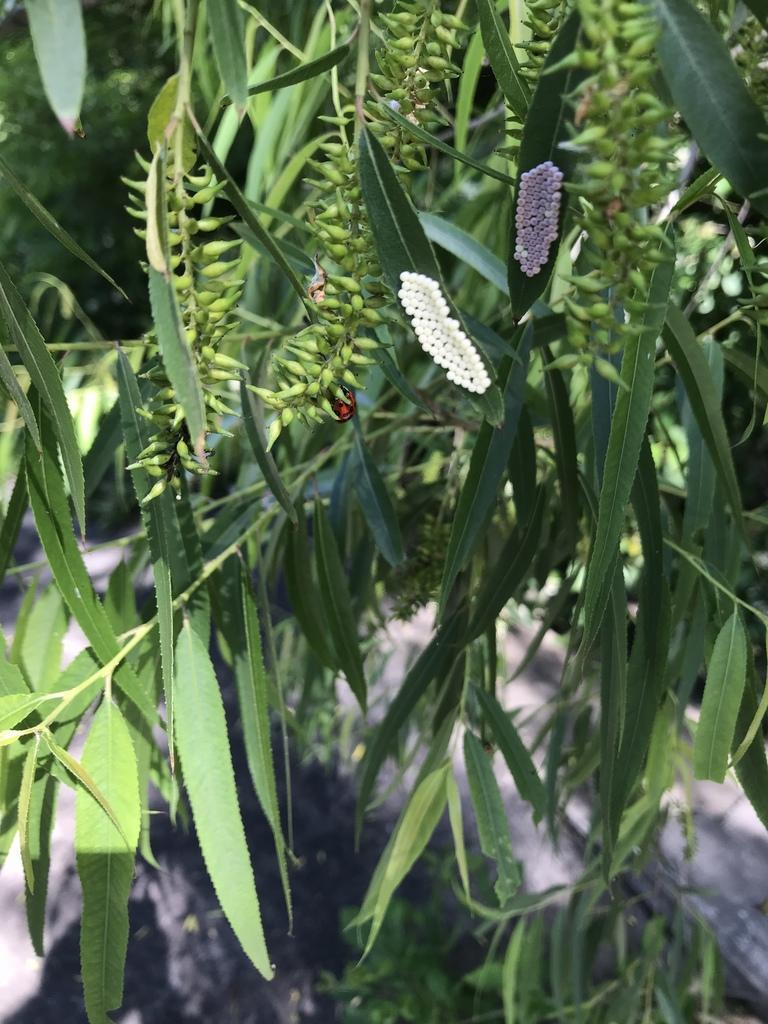ladybug: (329, 383, 359, 425)
